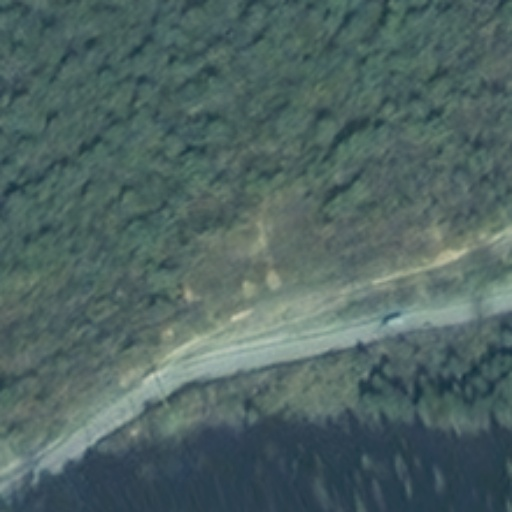landslide: (207, 221, 324, 299)
